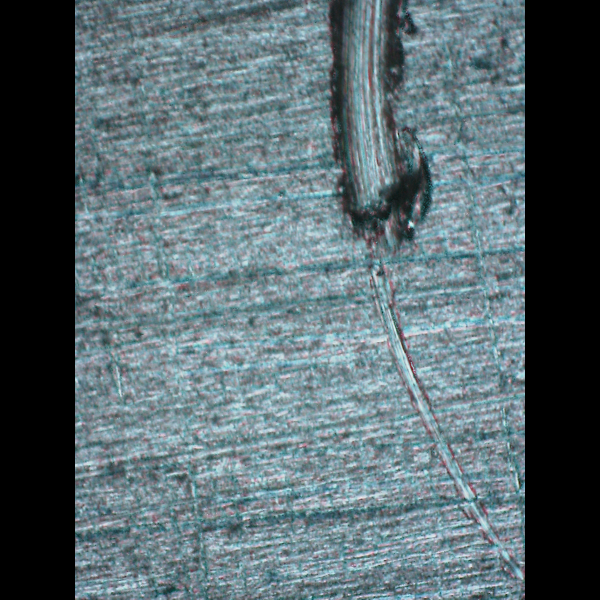d: (328, 0, 524, 595)
